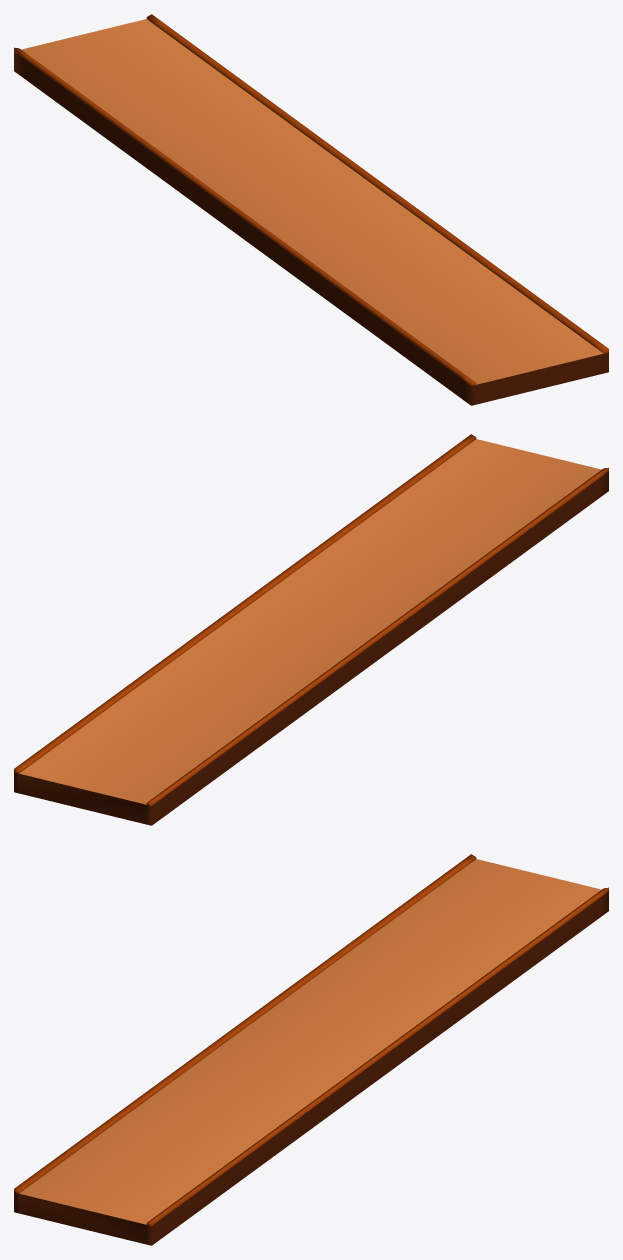
Rendered from Path_MainRoad.fbx.
3 renders of one model, top to bottom at view 1: azimuth 30°, elevation 25°; view 2: azimuth 150°, elevation 25°; view 3: azimuth 330°, elevation 25°, orthographic.
Parts seen in each view (by area): view 1: Path_MainRoad; view 2: Path_MainRoad; view 3: Path_MainRoad.
Boxes of the visible parts, <box> form: Path_MainRoad: <box>14,14,608,405</box>; Path_MainRoad: <box>14,434,608,825</box>; Path_MainRoad: <box>14,854,608,1245</box>.
Size of the model in its own units: 400 by 65 by 2300.
Materials: 1 (1 with a texture image).
